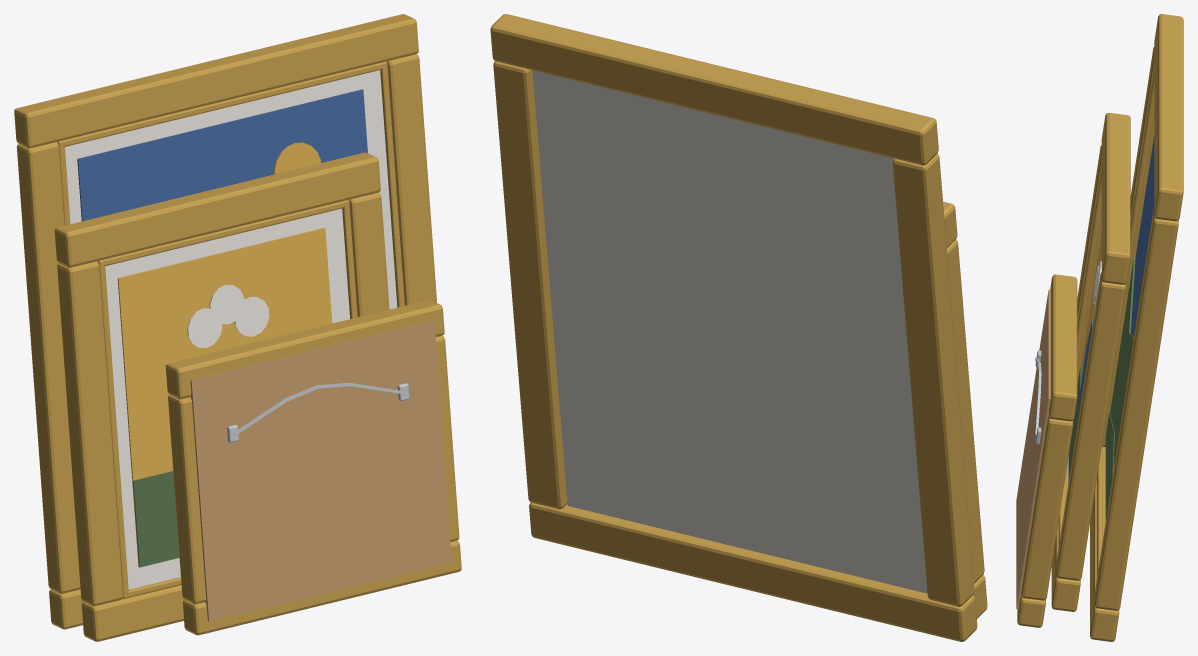
File: hh_cat_picture_stack.glb
3 views of the same model, side by side, from view 1: azimuth 30°, elevation 25°; view 2: azimuth 150°, elevation 25°; view 3: azimuth 270°, elevation 25° (orthographic). The views are drawn at different scales.
Parts seen in each view (by area): view 1: backing, ground, frame.001, sky, frame.002, frame.006, frame.005, mount.001, mount, frame.003, frame.009, frame.010 (+16 smaller); view 2: mount, frame.001, frame.002, frame, frame.003, frame.006; view 3: frame.003, frame.007, frame.001, frame.005, frame.011, backing, frame.009, frame.002, frame, hill, sky, frame.006 (+10 smaller).
Boxes of the visible parts, bbox=[...] form: backing: bbox=[190, 321, 451, 621]; ground: bbox=[117, 227, 332, 566]; frame.001: bbox=[14, 14, 418, 148]; sky: bbox=[77, 89, 367, 221]; frame.002: bbox=[16, 142, 80, 593]; frame.006: bbox=[57, 261, 123, 606]; frame.005: bbox=[54, 152, 380, 267]; mount.001: bbox=[96, 208, 349, 589]; mount: bbox=[56, 70, 397, 309]; frame.003: bbox=[386, 54, 436, 305]; frame.009: bbox=[165, 300, 444, 399]; frame.010: bbox=[168, 395, 206, 604]; mount: bbox=[532, 70, 927, 593]; frame.001: bbox=[490, 14, 938, 165]; frame.002: bbox=[892, 154, 974, 606]; frame: bbox=[529, 502, 977, 641]; frame.003: bbox=[493, 61, 567, 509]; frame.006: bbox=[947, 240, 984, 583]; frame.003: bbox=[1094, 209, 1178, 610]; frame.007: bbox=[1056, 272, 1125, 580]; frame.001: bbox=[1154, 14, 1183, 221]; frame.005: bbox=[1101, 112, 1130, 284]; frame.011: bbox=[1021, 416, 1073, 600]; backing: bbox=[1016, 289, 1050, 609]; frame.009: bbox=[1049, 274, 1077, 421]; frame.002: bbox=[1102, 47, 1154, 446]; frame: bbox=[1090, 446, 1119, 641]; hill: bbox=[1110, 257, 1135, 468]; sky: bbox=[1130, 136, 1154, 336]; frame.006: bbox=[1077, 145, 1101, 384].
Bounding box in the file's own units: 0.5 × 0.6 × 0.2.
